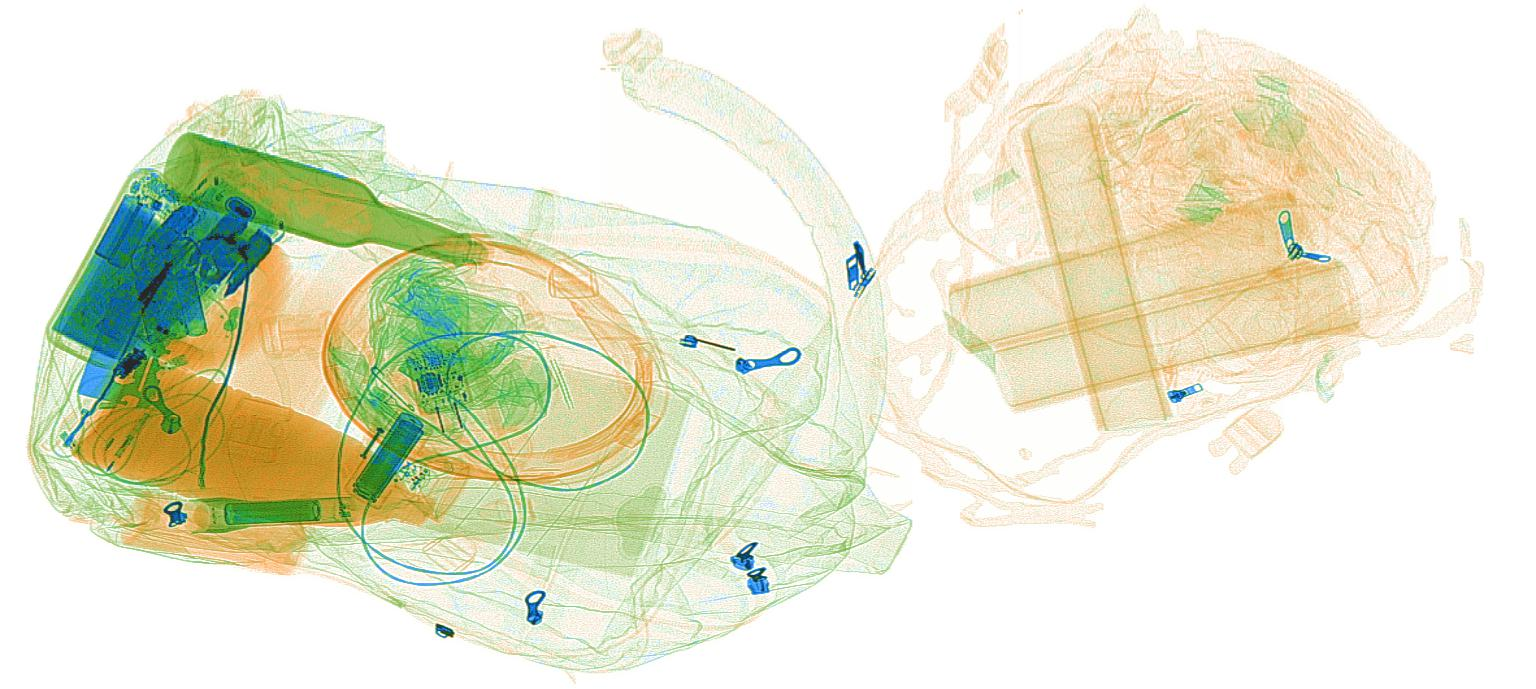battery: (131, 262, 208, 350), (352, 414, 425, 504), (95, 198, 155, 272), (219, 499, 321, 528), (145, 203, 197, 254)
